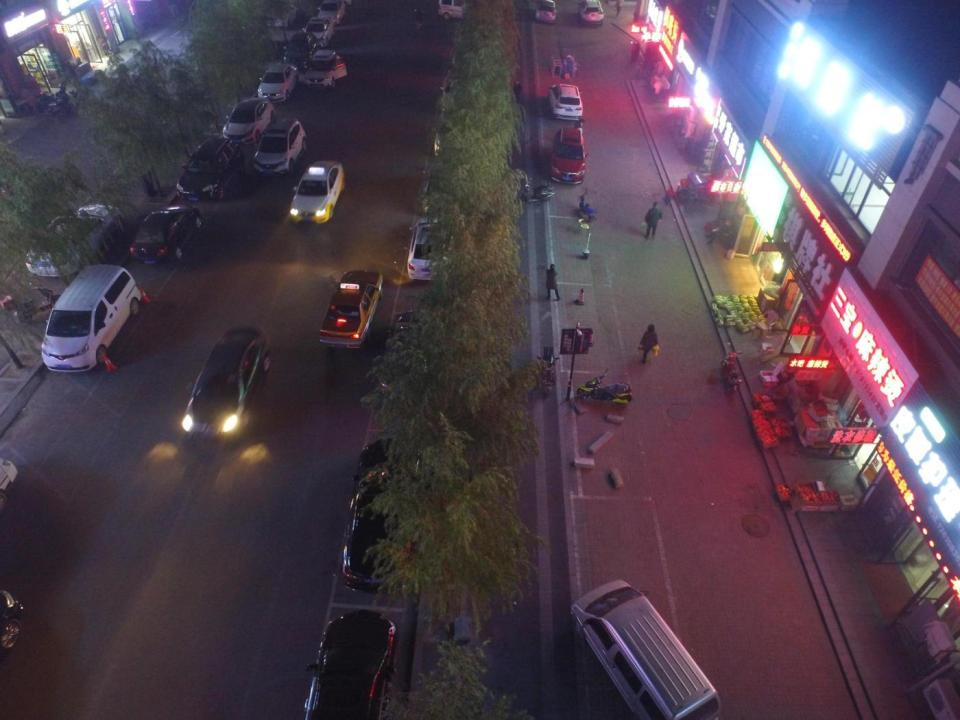car: (343, 438, 420, 595), (181, 327, 271, 440), (304, 610, 397, 719), (26, 204, 123, 278), (381, 310, 438, 402), (319, 270, 383, 348), (130, 205, 202, 264), (289, 160, 345, 224), (407, 217, 454, 282), (253, 118, 305, 174), (223, 97, 274, 144), (422, 156, 464, 212), (548, 128, 590, 184), (433, 110, 472, 157), (258, 62, 298, 102), (305, 50, 346, 89), (440, 69, 477, 107), (549, 84, 582, 120), (301, 16, 334, 48), (454, 20, 487, 48), (516, 182, 555, 205), (452, 42, 483, 70), (265, 4, 298, 28), (318, 0, 344, 25), (578, 0, 603, 26), (578, 192, 597, 221), (535, 0, 558, 23), (631, 39, 640, 60)
van: (570, 577, 719, 720), (41, 265, 141, 372), (176, 138, 244, 200), (284, 33, 319, 69), (438, 0, 484, 21)
